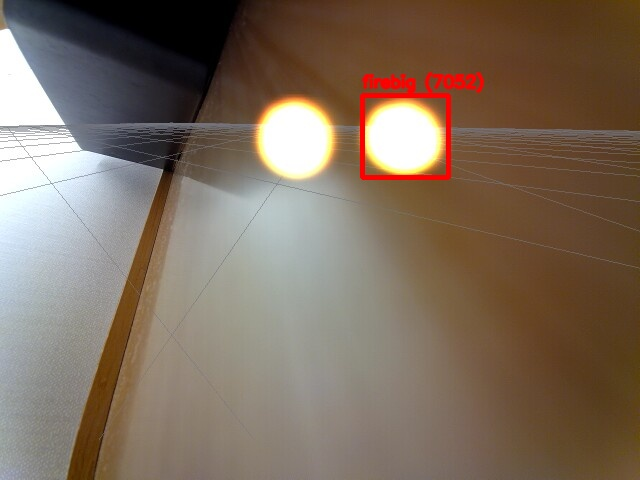firebig: (362, 95, 448, 177)
